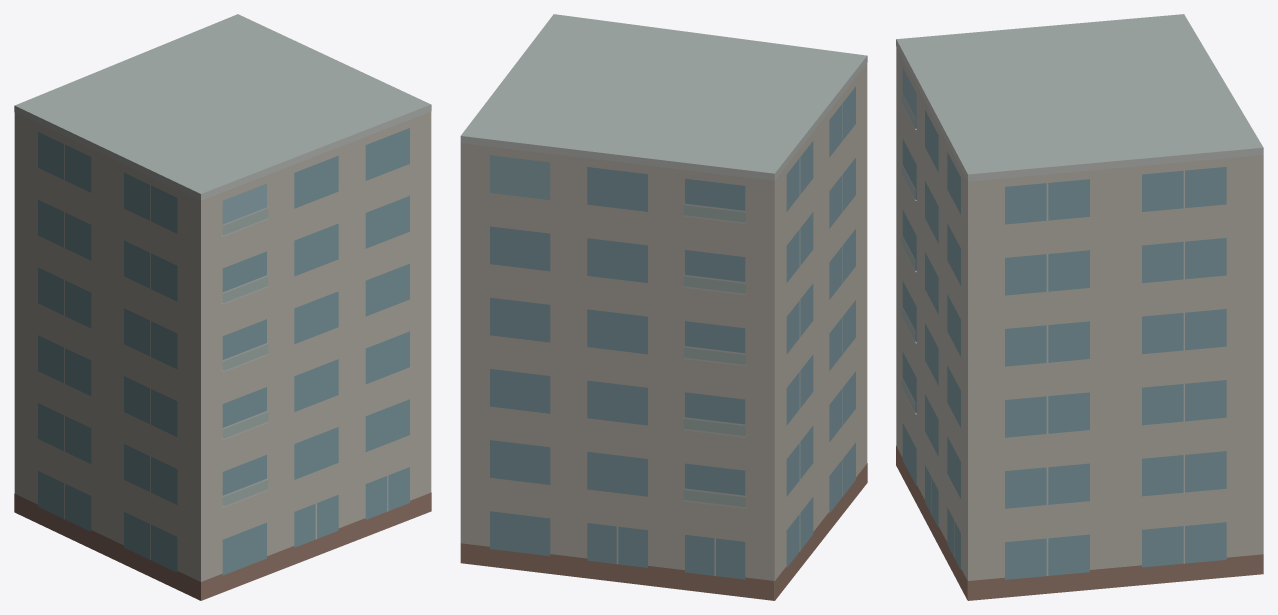
Rendered from survey-upis-32778505.glb.
3 views of the same model, side by side, from view 1: azimuth 30°, elevation 25°; view 2: azimuth 150°, elevation 25°; view 3: azimuth 270°, elevation 25° (orthographic). The views are drawn at different scales.
Parts seen in each view (by area): view 1: survey-upis-32778505.tmp; view 2: survey-upis-32778505.tmp; view 3: survey-upis-32778505.tmp.
Part boxes in pixels (box(x1,y1,x2,y2)): survey-upis-32778505.tmp: box(14, 14, 431, 600); survey-upis-32778505.tmp: box(460, 14, 867, 600); survey-upis-32778505.tmp: box(896, 14, 1263, 600).
Size of the model in its own units: 11.83 by 14.65 by 11.45.
